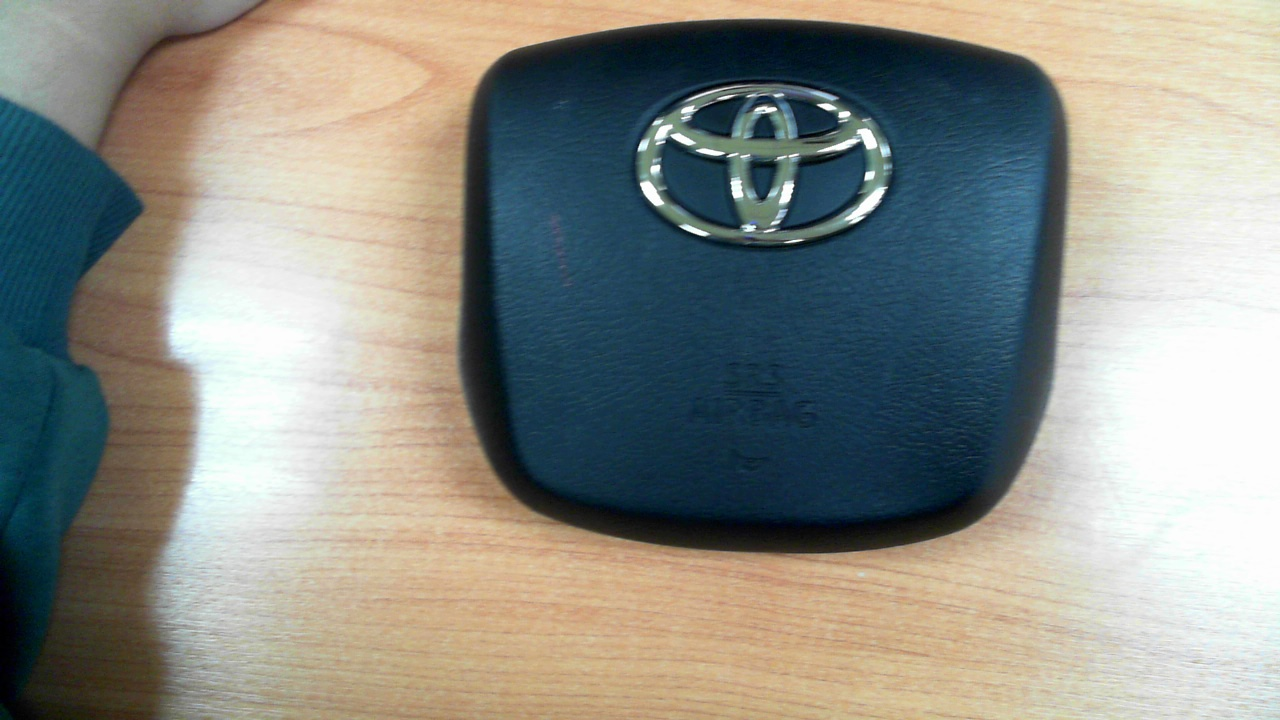Airbag: (458, 17, 1070, 556)
Toyota: (634, 83, 893, 246)
